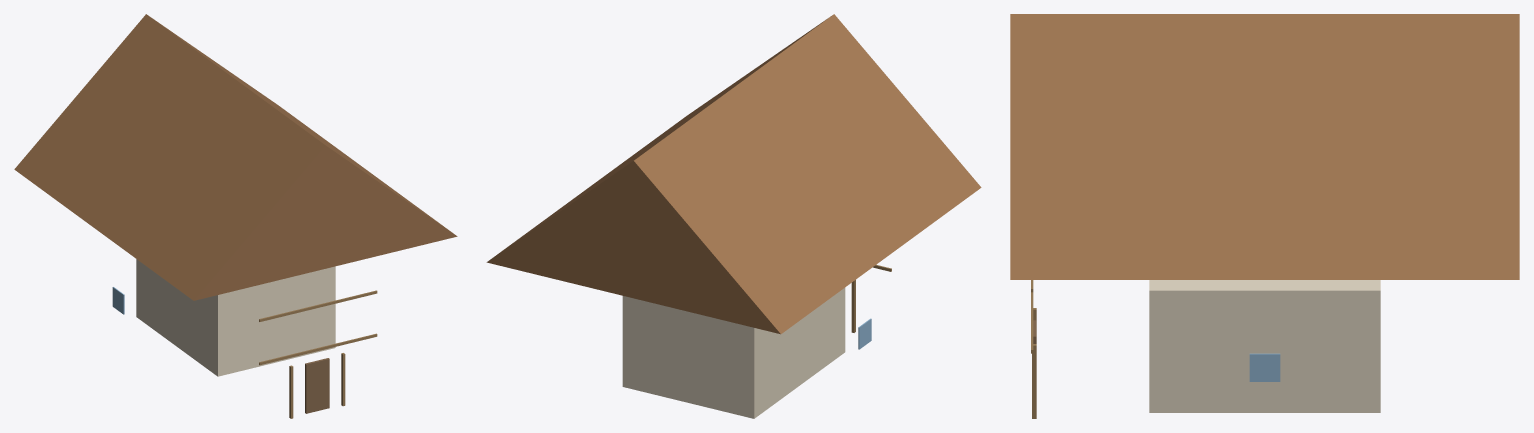
File: medieval_house_2.glb
3 renders of one model, left to right at view 1: azimuth 30°, elevation 25°; view 2: azimuth 150°, elevation 25°; view 3: azimuth 270°, elevation 25°, orthographic. The views are drawn at different scales.
Parts seen in each view (by area): view 1: medieval_house_2_roof, medieval_house_2_walls, medieval_house_2_door, medieval_house_2_beam, medieval_house_2_beam.001; view 2: medieval_house_2_roof, medieval_house_2_walls; view 3: medieval_house_2_roof, medieval_house_2_walls, medieval_house_2_window.001.
Part boxes in pixels (x1,y1,x2,y2): medieval_house_2_roof: (14,14,457,300); medieval_house_2_walls: (136,259,335,376); medieval_house_2_door: (305,358,329,413); medieval_house_2_beam: (259,333,377,365); medieval_house_2_beam.001: (259,290,377,321); medieval_house_2_roof: (486,14,981,334); medieval_house_2_walls: (622,287,845,418); medieval_house_2_roof: (1010,14,1519,279); medieval_house_2_walls: (1149,280,1380,412); medieval_house_2_window.001: (1249,353,1280,381).
Size of the model in its own units: 5.6 by 5.52 by 6.6.
